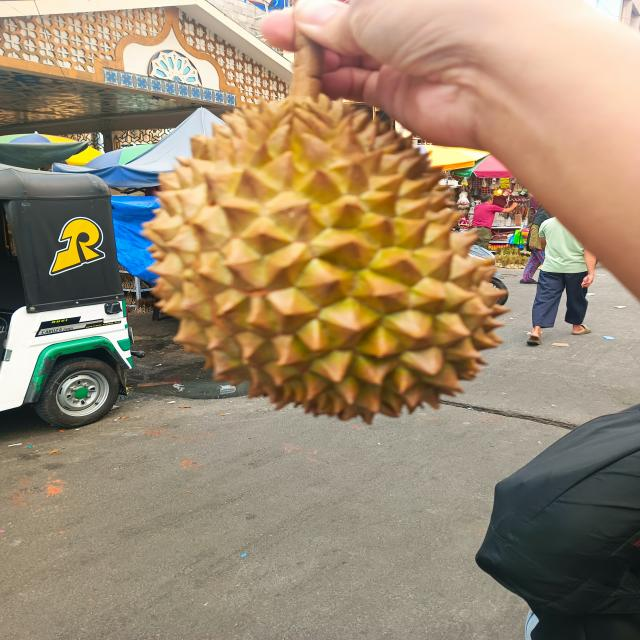mature: (141, 94, 510, 422)
